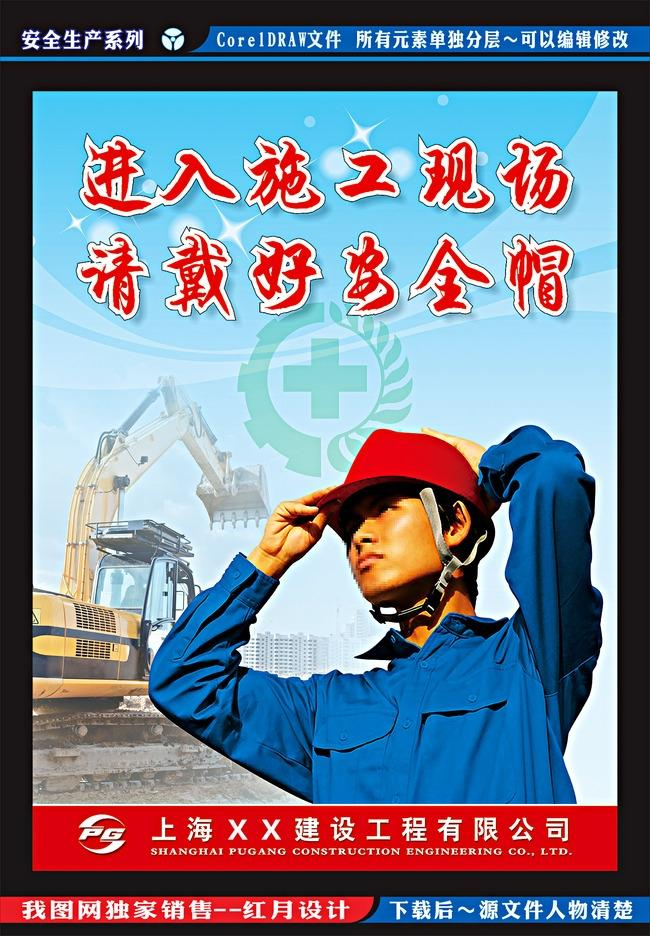helmet: (316, 431, 479, 522)
wear: (274, 625, 580, 801)
